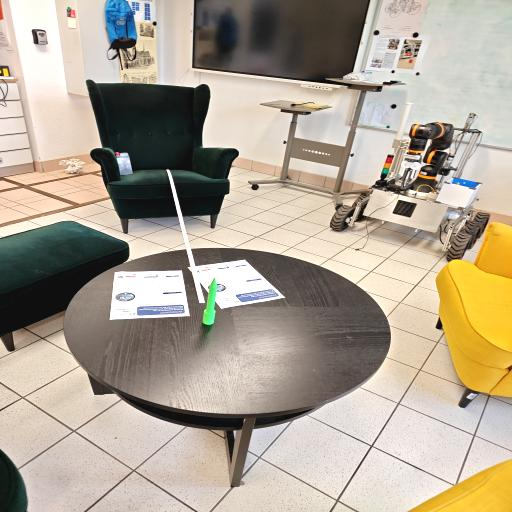Probe-Detection: (202, 278, 217, 325)
